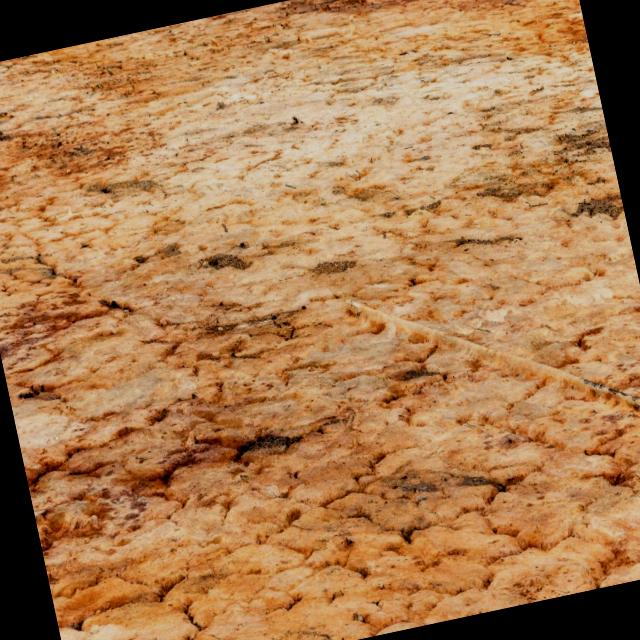suelo_seco: (103, 78, 534, 596)
